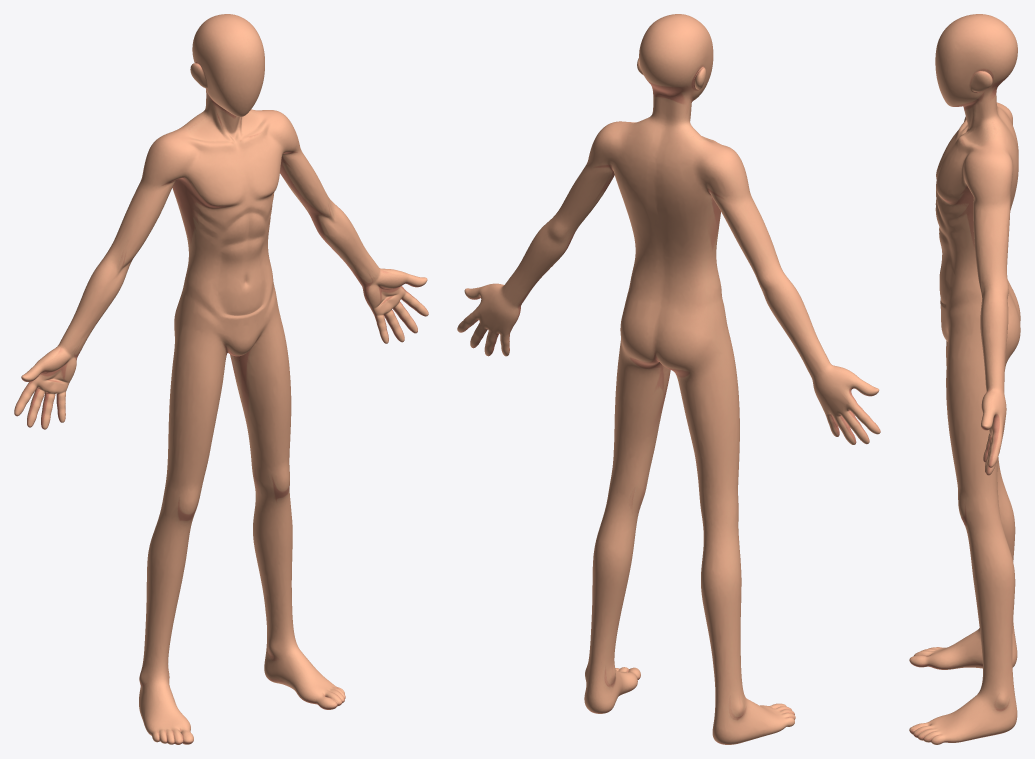
Rendered from manbase.glb.
3 renders of one model, left to right at view 1: azimuth 30°, elevation 25°; view 2: azimuth 150°, elevation 25°; view 3: azimuth 270°, elevation 25°, orthographic. The views are drawn at different scales.
Bounding box in the file's own units: 1.2 × 1.9 × 0.2806.
Materials: 1 (1 with a texture image).
